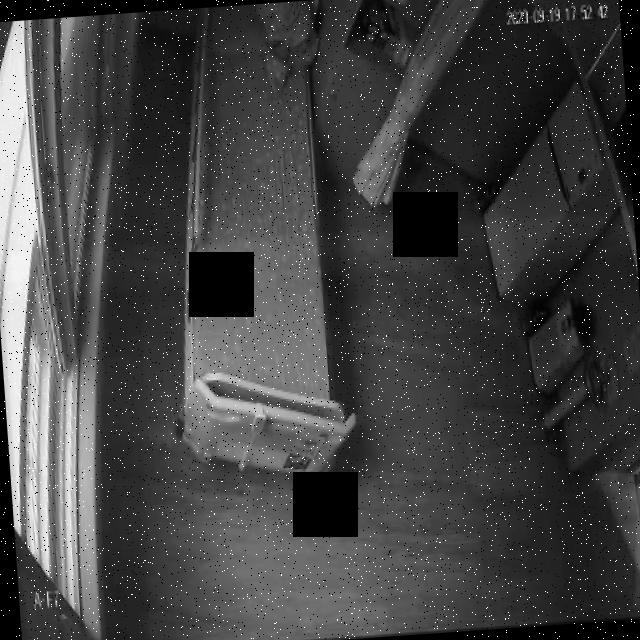bed: (156, 0, 346, 478)
